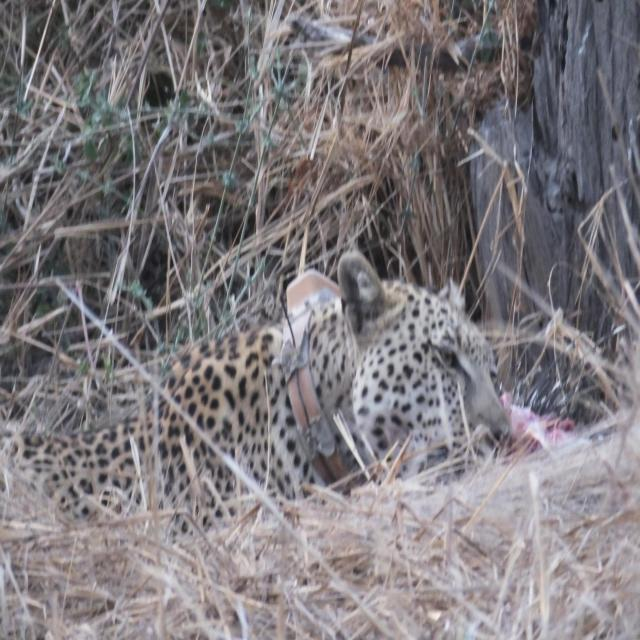Leopard: (0, 223, 531, 539)
